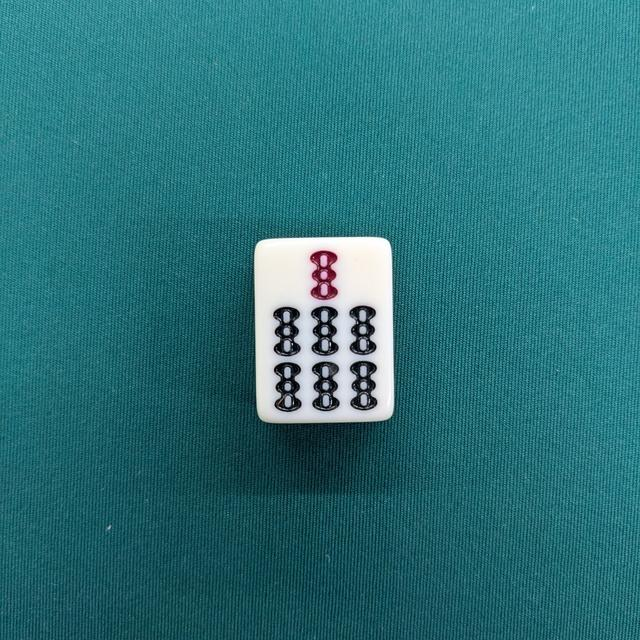7s: (253, 234, 396, 423)
